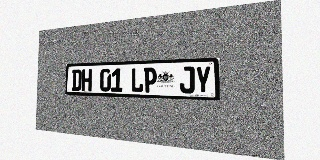0: (100, 68, 111, 92)
1: (111, 68, 123, 92)
D: (72, 69, 82, 91)
H: (82, 69, 92, 91)
J: (180, 66, 195, 94)
L: (131, 68, 143, 92)
P: (144, 67, 157, 93)
Y: (195, 66, 211, 94)
